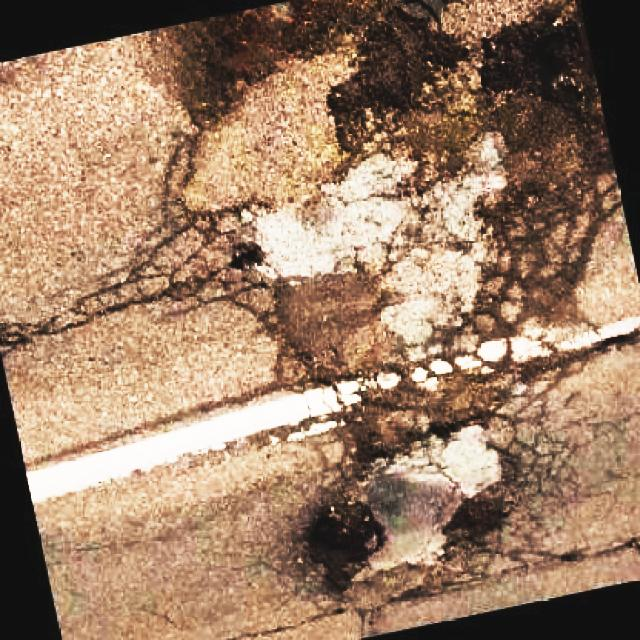pothole: (335, 9, 463, 148), (474, 5, 604, 137), (191, 2, 298, 103), (303, 488, 383, 598), (428, 486, 510, 563)
